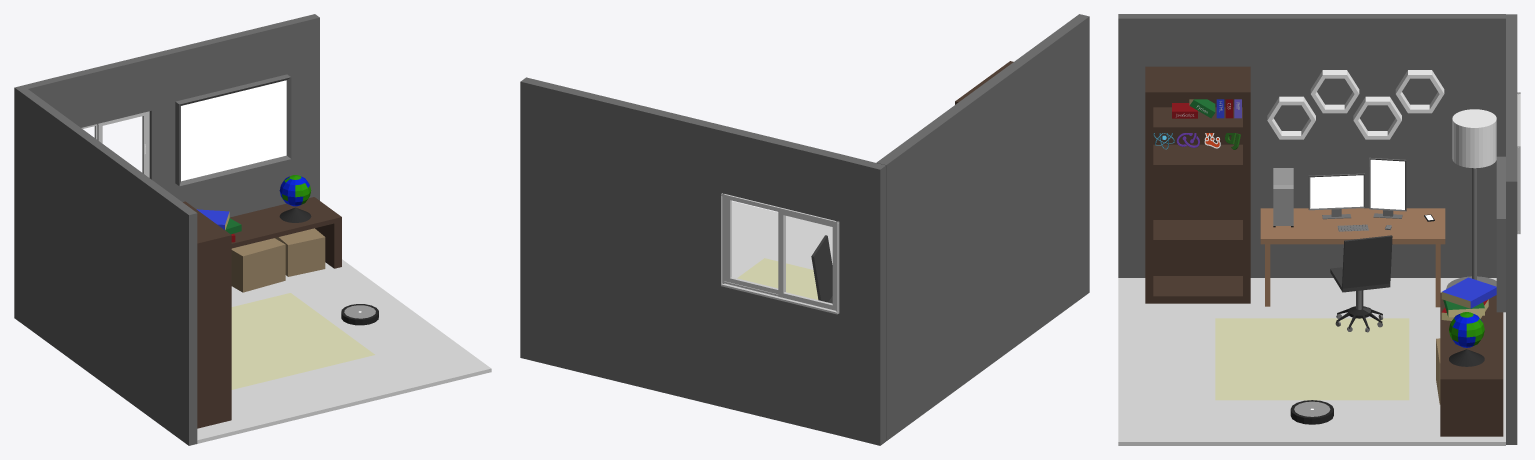
Rendered from portfolioOptimizedTV.glb.
The picture shows the model from 3 angles, left to right: view 1: azimuth 30°, elevation 25°; view 2: azimuth 150°, elevation 25°; view 3: azimuth 270°, elevation 25°; orthographic projection. The views are drawn at different scales.
Visible parts, largest first — view 1: wall, windowWall, floor, tv, rug, shelf, displayBenchBoxes, displayBench, globe, roomba, textbooks, Window.R; view 2: windowWall, wall, floor, WindowFrame, rug, Window.L, chairTop, Window.R; view 3: wall, floor, shelf, rug, displayBench, tableTop, windowWall, chairTop, lamp, hMonitor, vMonitor, textbooks (+10 smaller).
Part boxes in pixels (x1,y1,x2,y2): wall: (19,89,197,445); windowWall: (14,14,319,321); floor: (197,259,491,443); tv: (175,74,291,186); rug: (231,293,374,389); shelf: (183,201,231,428); displayBenchBoxes: (231,228,325,292); displayBench: (229,197,341,268); globe: (279,175,311,222); roomba: (341,304,378,325); textbooks: (197,209,241,242); Window.R: (97,112,146,175); windowWall: (520,77,885,445); wall: (876,14,1089,441); floor: (731,201,832,278); WindowFrame: (721,193,839,314); rug: (737,258,818,299); Window.L: (778,210,835,310); chairTop: (811,235,832,303); Window.R: (726,197,785,294); wall: (1118,14,1505,277); floor: (1118,278,1505,445); shelf: (1145,66,1250,303); rug: (1215,318,1409,400); displayBench: (1440,292,1503,436); tableTop: (1260,208,1445,244); windowWall: (1506,14,1517,444); chairTop: (1330,235,1392,328); lamp: (1446,109,1496,288); hMonitor: (1308,173,1364,219); vMonitor: (1369,157,1406,218); textbooks: (1441,277,1496,320).
Bounding box in the file's own units: 4.12 × 3 × 4.15.
